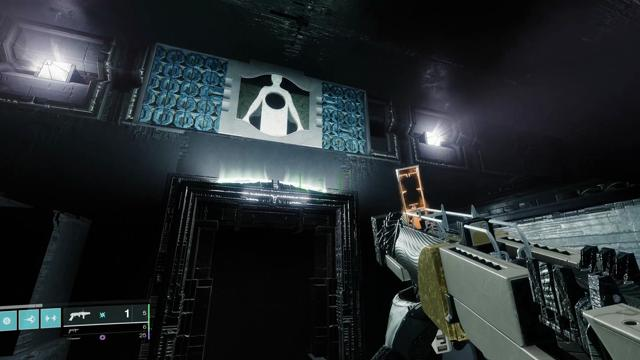grief: (236, 74, 310, 136)
